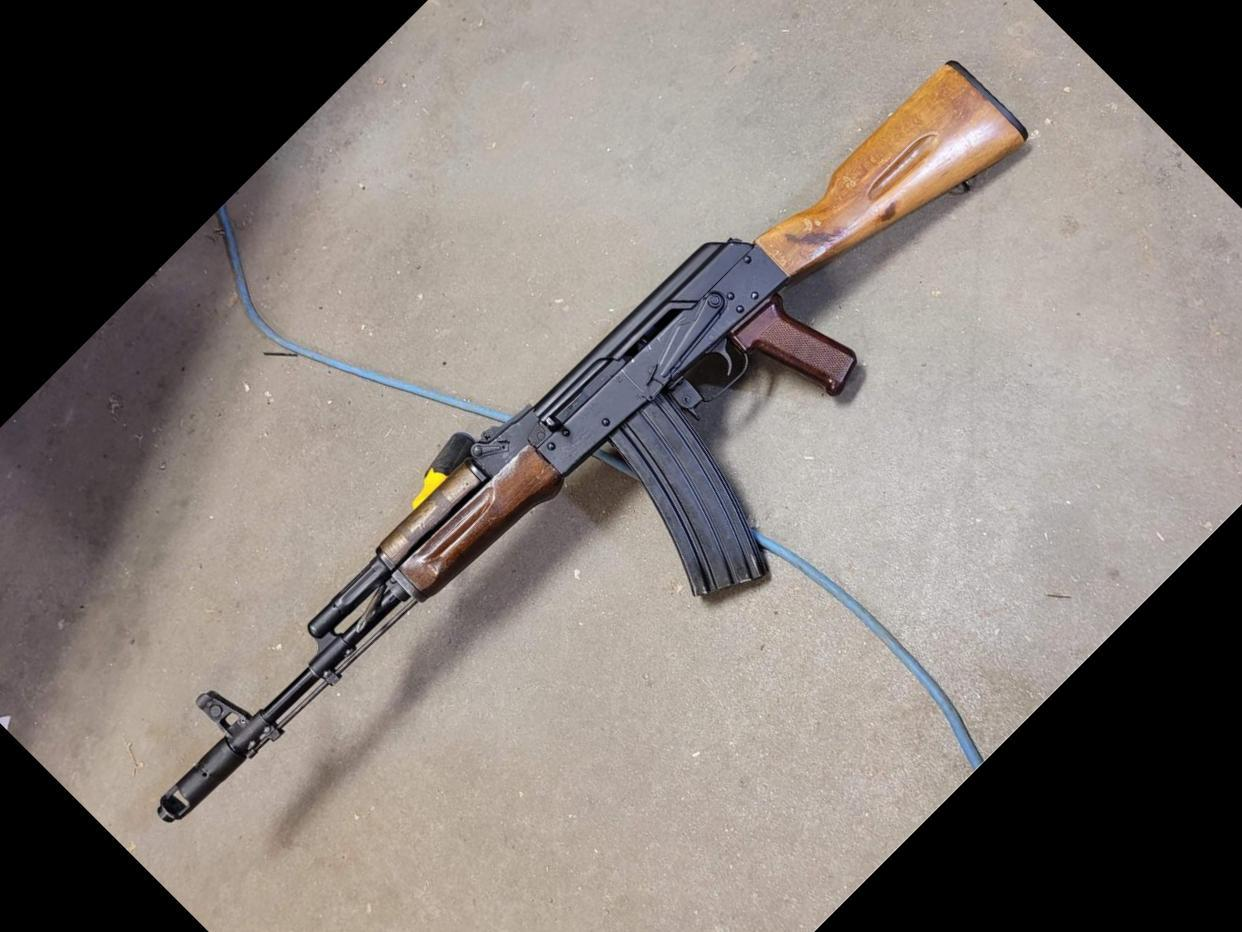larga: (157, 58, 1030, 823)
